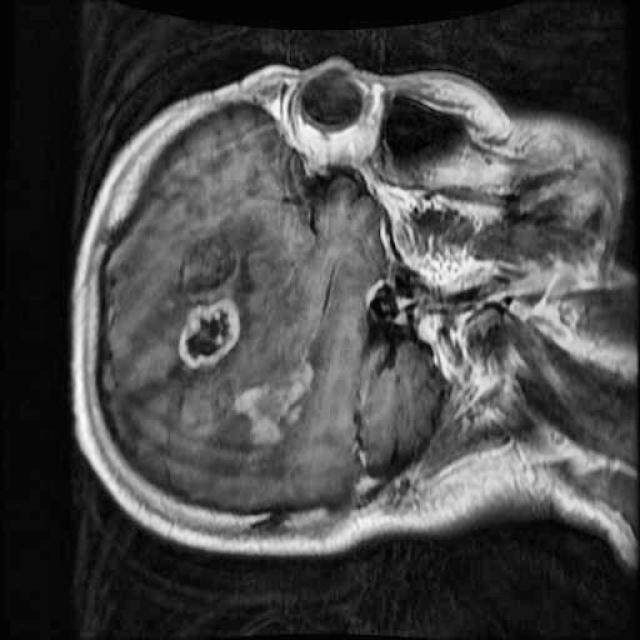Tumor: (170, 288, 248, 378)
